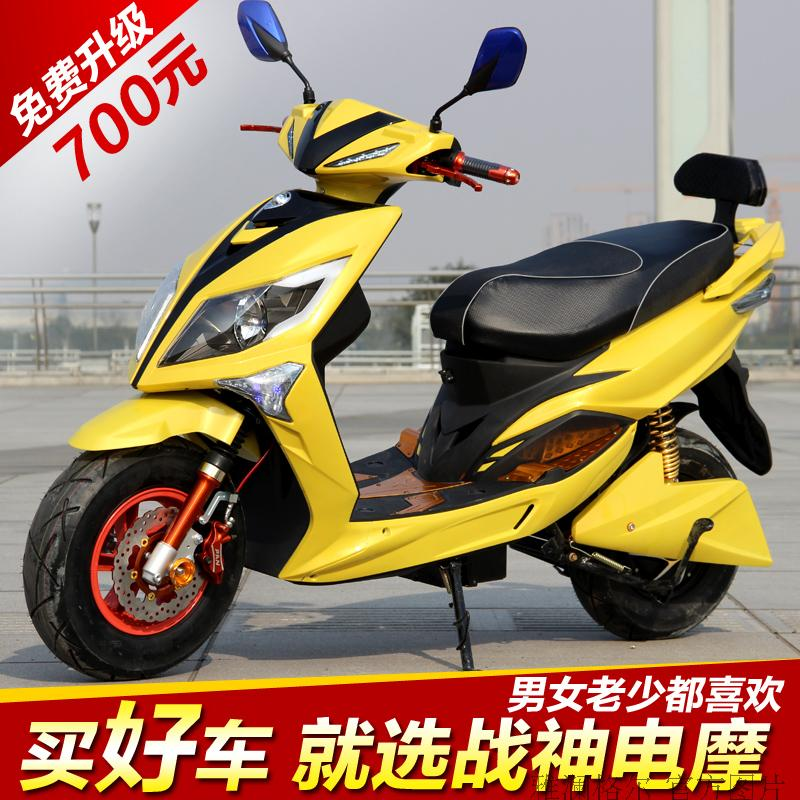电动车: (19, 2, 794, 675)
